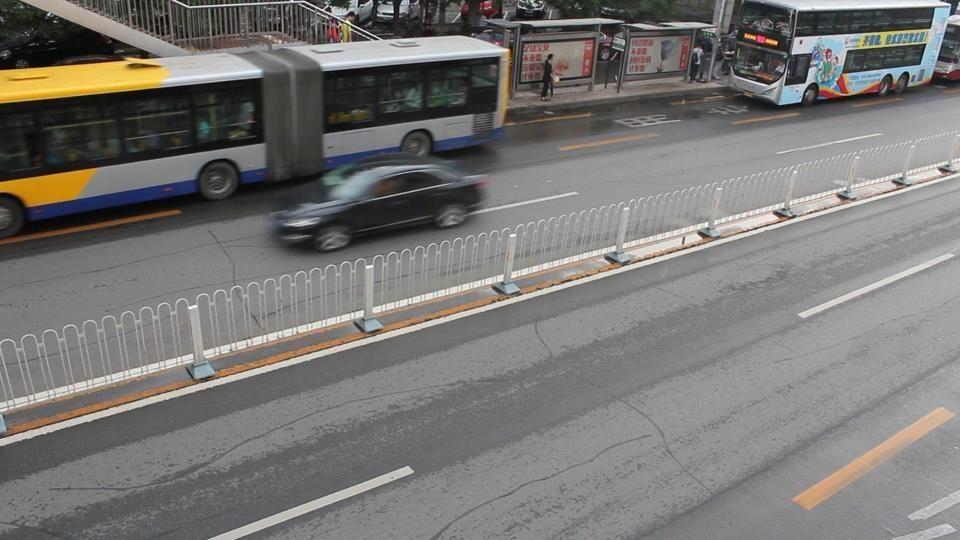car: (265, 159, 486, 253), (513, 0, 548, 20)
